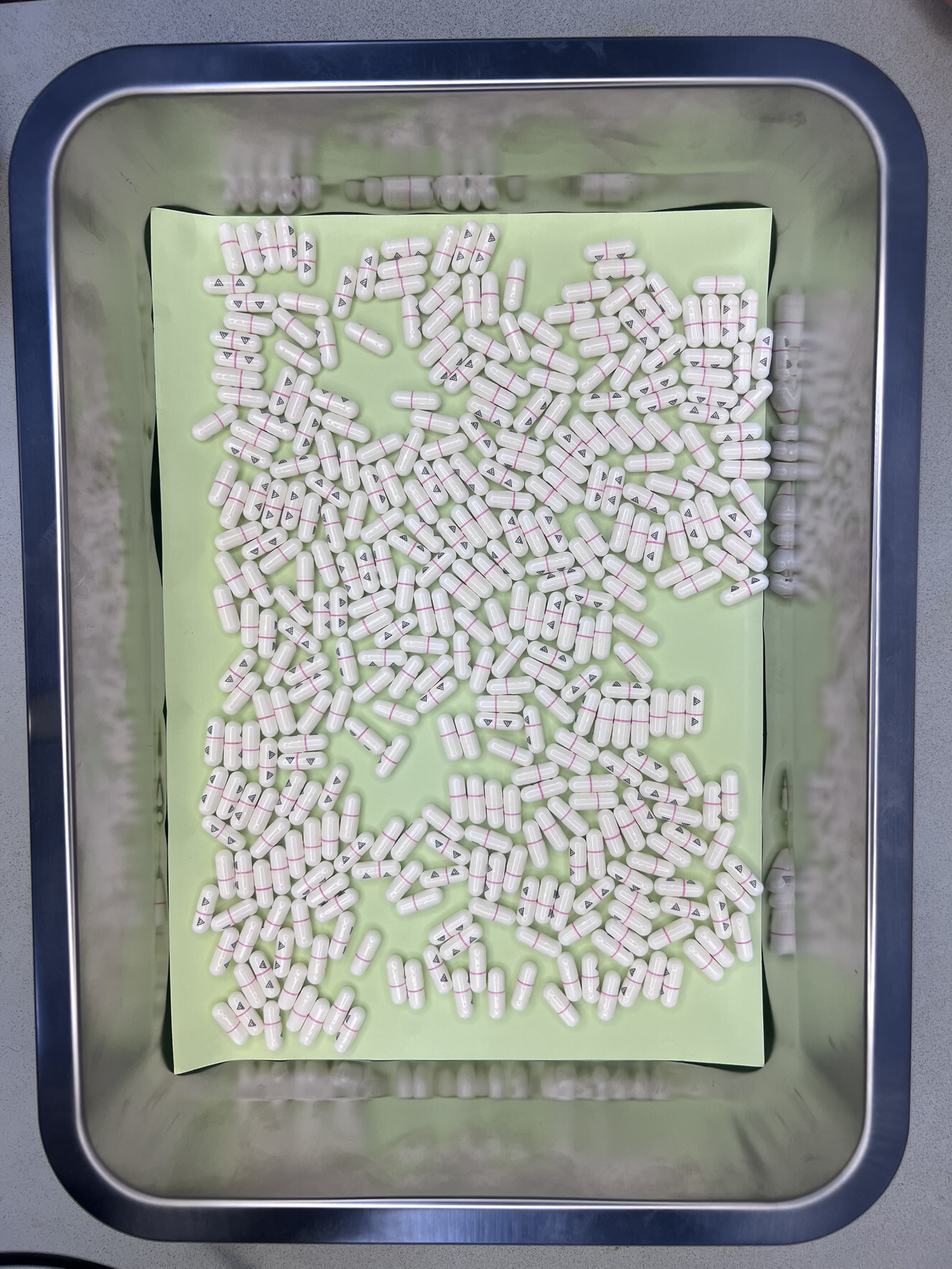Capsule: (728, 377, 773, 425), (640, 332, 689, 376), (442, 349, 487, 395), (417, 324, 462, 370), (418, 270, 462, 317), (447, 450, 490, 498), (420, 293, 463, 341), (512, 387, 554, 436), (219, 670, 263, 716), (270, 306, 316, 350), (617, 304, 661, 350), (599, 276, 647, 318), (274, 615, 323, 656), (701, 543, 751, 583), (533, 390, 573, 440), (640, 411, 685, 455), (722, 853, 765, 899), (249, 815, 292, 861), (574, 351, 620, 394), (592, 410, 634, 457), (430, 456, 471, 504), (332, 830, 376, 874), (682, 937, 724, 983), (217, 648, 259, 694), (615, 406, 656, 453), (634, 293, 675, 340), (542, 981, 582, 1029), (645, 830, 693, 870), (367, 814, 407, 862), (720, 534, 768, 574), (200, 814, 249, 853), (357, 505, 406, 544), (213, 518, 266, 554), (192, 404, 242, 442), (546, 795, 590, 838), (552, 424, 596, 467), (714, 871, 756, 916), (238, 558, 275, 609), (353, 430, 404, 467), (439, 922, 485, 963), (313, 885, 360, 925), (516, 310, 564, 349), (209, 896, 259, 933), (214, 549, 251, 599), (673, 565, 723, 602), (414, 546, 457, 589), (415, 674, 459, 716), (469, 550, 513, 592), (542, 465, 586, 507), (569, 413, 611, 457), (604, 918, 650, 958), (429, 341, 469, 387), (427, 224, 461, 278), (610, 340, 646, 391), (428, 908, 475, 947), (304, 871, 351, 910), (601, 575, 648, 614), (729, 477, 768, 524), (483, 361, 531, 399), (718, 574, 770, 609), (287, 778, 324, 827), (273, 340, 322, 377), (694, 925, 736, 968), (573, 875, 616, 917), (290, 858, 333, 900), (403, 512, 446, 554), (560, 663, 604, 704), (523, 473, 567, 514), (701, 821, 737, 871), (420, 802, 465, 842), (239, 525, 289, 561), (646, 271, 682, 321), (598, 749, 644, 788), (389, 816, 428, 862), (490, 633, 529, 679), (386, 654, 425, 700), (305, 470, 351, 509), (468, 221, 500, 277), (533, 806, 571, 853), (295, 689, 333, 736), (245, 406, 296, 441), (606, 859, 654, 896), (423, 830, 471, 867), (359, 465, 393, 517), (228, 419, 280, 453), (343, 321, 392, 357), (660, 820, 709, 856), (611, 641, 653, 683), (412, 652, 454, 694), (452, 606, 495, 647), (272, 583, 313, 626), (344, 716, 388, 756), (385, 860, 424, 905), (259, 536, 304, 575), (449, 503, 488, 548), (262, 639, 297, 689), (206, 458, 241, 508), (414, 459, 449, 509), (212, 1001, 250, 1047), (589, 929, 635, 967), (558, 909, 604, 947), (606, 899, 653, 936), (573, 511, 610, 558), (322, 985, 356, 1036), (215, 770, 249, 821), (652, 555, 703, 589), (530, 342, 581, 376), (613, 883, 661, 919), (462, 328, 510, 364), (644, 916, 696, 949), (352, 666, 396, 705), (436, 516, 475, 560), (309, 387, 361, 420), (498, 312, 531, 364), (246, 786, 281, 835), (346, 607, 395, 642), (227, 991, 265, 1036), (568, 536, 605, 582), (466, 494, 503, 540), (403, 479, 440, 525), (297, 997, 331, 1047), (613, 803, 647, 853), (274, 768, 308, 818), (621, 482, 671, 516), (376, 458, 410, 508), (623, 747, 670, 783), (374, 733, 410, 780), (600, 554, 647, 590), (679, 422, 715, 469), (345, 586, 396, 619), (222, 437, 273, 470), (486, 540, 527, 581), (535, 684, 577, 724), (282, 652, 330, 687), (438, 572, 481, 611), (719, 506, 762, 545), (546, 445, 589, 484), (215, 222, 246, 276), (333, 1005, 367, 1054), (195, 766, 229, 815), (465, 394, 514, 428), (373, 612, 418, 649), (460, 412, 497, 457), (613, 612, 659, 648), (287, 668, 333, 704), (286, 983, 319, 1033), (451, 220, 481, 275), (622, 787, 657, 834), (452, 559, 493, 599), (349, 929, 383, 977), (670, 750, 704, 798), (477, 458, 525, 492), (319, 410, 370, 442), (283, 372, 315, 423), (514, 925, 563, 958), (681, 465, 730, 498), (267, 365, 298, 417), (520, 656, 566, 691), (421, 944, 453, 994), (543, 743, 593, 775), (208, 927, 240, 977), (498, 508, 530, 558), (236, 222, 265, 277), (510, 960, 540, 1013), (618, 958, 649, 1009), (467, 896, 518, 927), (463, 824, 514, 855), (554, 727, 599, 762), (249, 950, 281, 999), (318, 763, 350, 812), (536, 504, 568, 553), (678, 293, 706, 349), (624, 850, 678, 879), (542, 298, 596, 327), (384, 529, 430, 563), (233, 962, 266, 1009), (470, 377, 517, 410), (453, 711, 484, 761), (290, 405, 321, 455), (419, 431, 469, 462), (635, 385, 688, 414), (596, 808, 626, 859), (535, 564, 586, 594), (310, 538, 340, 589), (220, 479, 250, 530), (694, 490, 724, 541), (627, 368, 678, 398), (229, 780, 260, 829), (394, 427, 425, 476), (373, 273, 427, 301), (559, 277, 613, 305), (467, 645, 496, 697), (243, 471, 272, 523), (679, 498, 708, 550), (494, 447, 546, 476), (572, 686, 602, 736), (260, 893, 290, 943), (233, 914, 263, 964), (371, 698, 421, 728), (277, 963, 308, 1011), (486, 736, 534, 767), (518, 510, 549, 558), (342, 487, 369, 542), (314, 428, 341, 483), (501, 842, 529, 895), (577, 331, 630, 359), (327, 910, 356, 961), (640, 950, 669, 1001), (525, 365, 576, 394), (330, 265, 357, 319), (568, 315, 622, 342), (213, 584, 241, 636), (493, 428, 545, 456), (273, 214, 298, 272), (526, 640, 574, 670), (658, 894, 711, 921), (192, 882, 219, 935), (296, 490, 323, 543), (268, 453, 321, 480), (320, 501, 346, 556), (437, 711, 465, 762), (269, 685, 297, 736), (336, 551, 364, 602), (625, 512, 653, 563), (520, 775, 569, 804), (485, 597, 514, 646), (324, 683, 353, 732), (706, 888, 733, 940), (524, 550, 576, 577), (355, 542, 381, 596), (599, 464, 625, 518), (336, 439, 362, 493), (408, 409, 460, 436), (523, 819, 551, 869), (608, 502, 636, 552), (645, 472, 695, 500), (315, 315, 340, 371), (221, 311, 277, 336), (257, 218, 282, 274), (750, 327, 775, 383), (294, 229, 318, 287), (596, 969, 622, 1022), (659, 956, 685, 1009), (639, 780, 692, 806), (584, 459, 610, 512), (677, 401, 730, 427), (549, 881, 576, 932), (652, 802, 703, 829), (261, 478, 288, 529), (280, 479, 307, 530), (395, 888, 444, 916), (378, 235, 435, 259), (373, 255, 430, 279), (557, 951, 583, 1003), (534, 873, 560, 925), (664, 510, 690, 562), (652, 874, 706, 899), (214, 385, 270, 409), (210, 366, 266, 390), (449, 630, 475, 681), (430, 586, 456, 637), (373, 540, 399, 591), (730, 910, 755, 963), (515, 874, 540, 927), (277, 291, 330, 316), (686, 384, 739, 409), (252, 689, 279, 738), (719, 292, 742, 349), (451, 967, 476, 1019), (417, 864, 469, 889), (521, 704, 547, 754), (334, 636, 360, 686), (306, 932, 330, 986), (209, 328, 263, 352), (679, 365, 733, 389), (222, 293, 278, 316), (289, 897, 314, 948), (557, 601, 582, 652), (643, 522, 669, 571), (403, 958, 427, 1011), (679, 345, 732, 369), (396, 633, 451, 656), (212, 349, 267, 372), (356, 248, 379, 303), (577, 390, 632, 413), (592, 258, 647, 281), (582, 239, 637, 262), (511, 762, 561, 787), (483, 851, 507, 903), (593, 696, 617, 748), (524, 590, 548, 642), (710, 422, 764, 445), (737, 288, 760, 342), (401, 293, 423, 349), (414, 588, 439, 637), (566, 585, 615, 610), (571, 614, 595, 665), (262, 1000, 285, 1053), (232, 848, 255, 901), (503, 257, 525, 312), (701, 293, 723, 348), (541, 592, 566, 640), (701, 780, 724, 832), (610, 698, 633, 750), (350, 858, 402, 881), (338, 792, 361, 844), (202, 715, 225, 767), (277, 732, 329, 755), (720, 768, 742, 822), (622, 451, 676, 473), (731, 341, 753, 395), (273, 927, 296, 978), (591, 610, 614, 661), (508, 580, 531, 631), (580, 952, 602, 1005), (585, 827, 607, 880), (447, 772, 469, 825), (665, 687, 687, 740), (717, 440, 772, 461), (201, 274, 256, 295), (385, 955, 408, 1005), (465, 773, 487, 825), (480, 271, 500, 328), (718, 459, 772, 480), (460, 273, 481, 327), (475, 710, 524, 733), (269, 845, 291, 896), (277, 750, 328, 772), (390, 389, 441, 411), (502, 783, 523, 836), (356, 647, 409, 668), (484, 490, 537, 511), (487, 966, 507, 1021), (215, 849, 237, 899), (284, 829, 306, 879), (691, 275, 746, 295), (486, 675, 538, 696), (648, 686, 669, 738), (240, 718, 261, 770), (257, 737, 278, 789), (239, 596, 260, 648), (311, 590, 332, 642), (394, 563, 416, 612), (468, 845, 489, 896), (252, 858, 273, 909), (468, 941, 488, 994), (485, 777, 505, 830), (569, 791, 622, 811), (569, 773, 619, 794), (600, 680, 652, 700), (321, 808, 340, 862), (329, 585, 349, 636), (474, 693, 524, 713), (294, 551, 314, 601), (630, 697, 649, 749), (223, 720, 242, 772), (258, 608, 277, 660), (685, 684, 704, 735), (569, 836, 588, 886), (304, 813, 321, 868)
